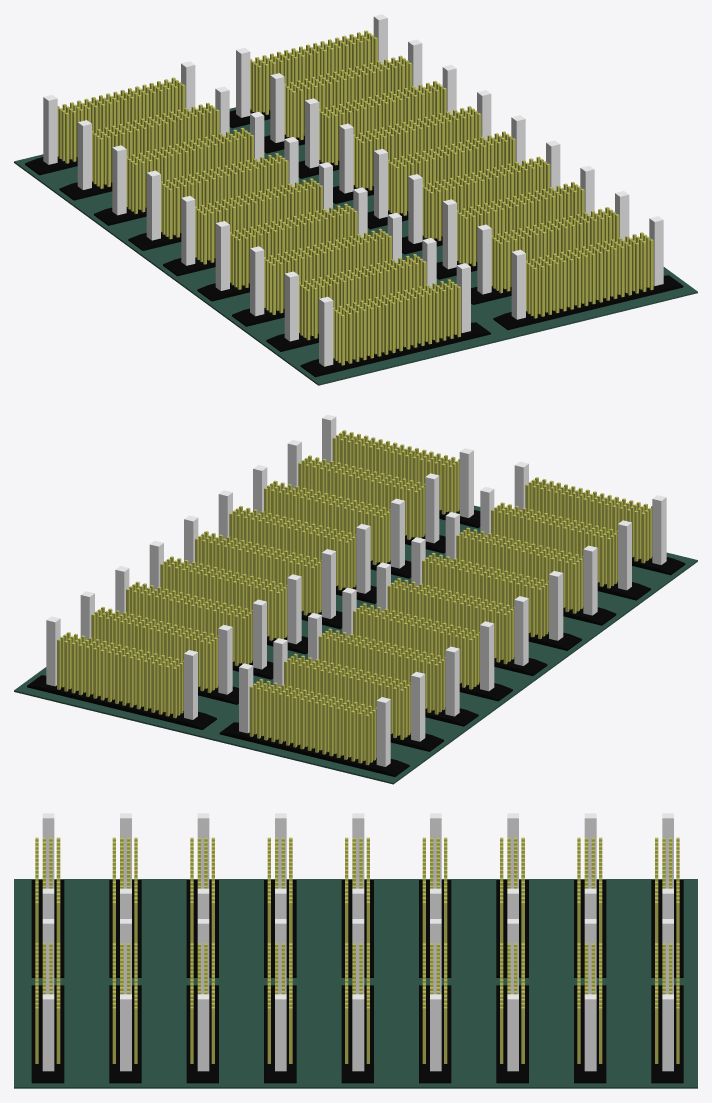
Rendered from Rückwand.fbx.
The picture shows the model from 3 angles, top to bottom: view 1: azimuth 30°, elevation 25°; view 2: azimuth 150°, elevation 25°; view 3: azimuth 270°, elevation 25°; orthographic projection. The views are drawn at different scales.
Visible parts, largest first — view 1: Rückwand; view 2: Rückwand; view 3: Rückwand.
Part boxes in pixels (x1,y1,x2,y2): Rückwand: [14, 14, 697, 385]; Rückwand: [14, 414, 697, 784]; Rückwand: [14, 813, 697, 1088].
Bounding box in the file's own units: 285 × 49.61 × 396.
